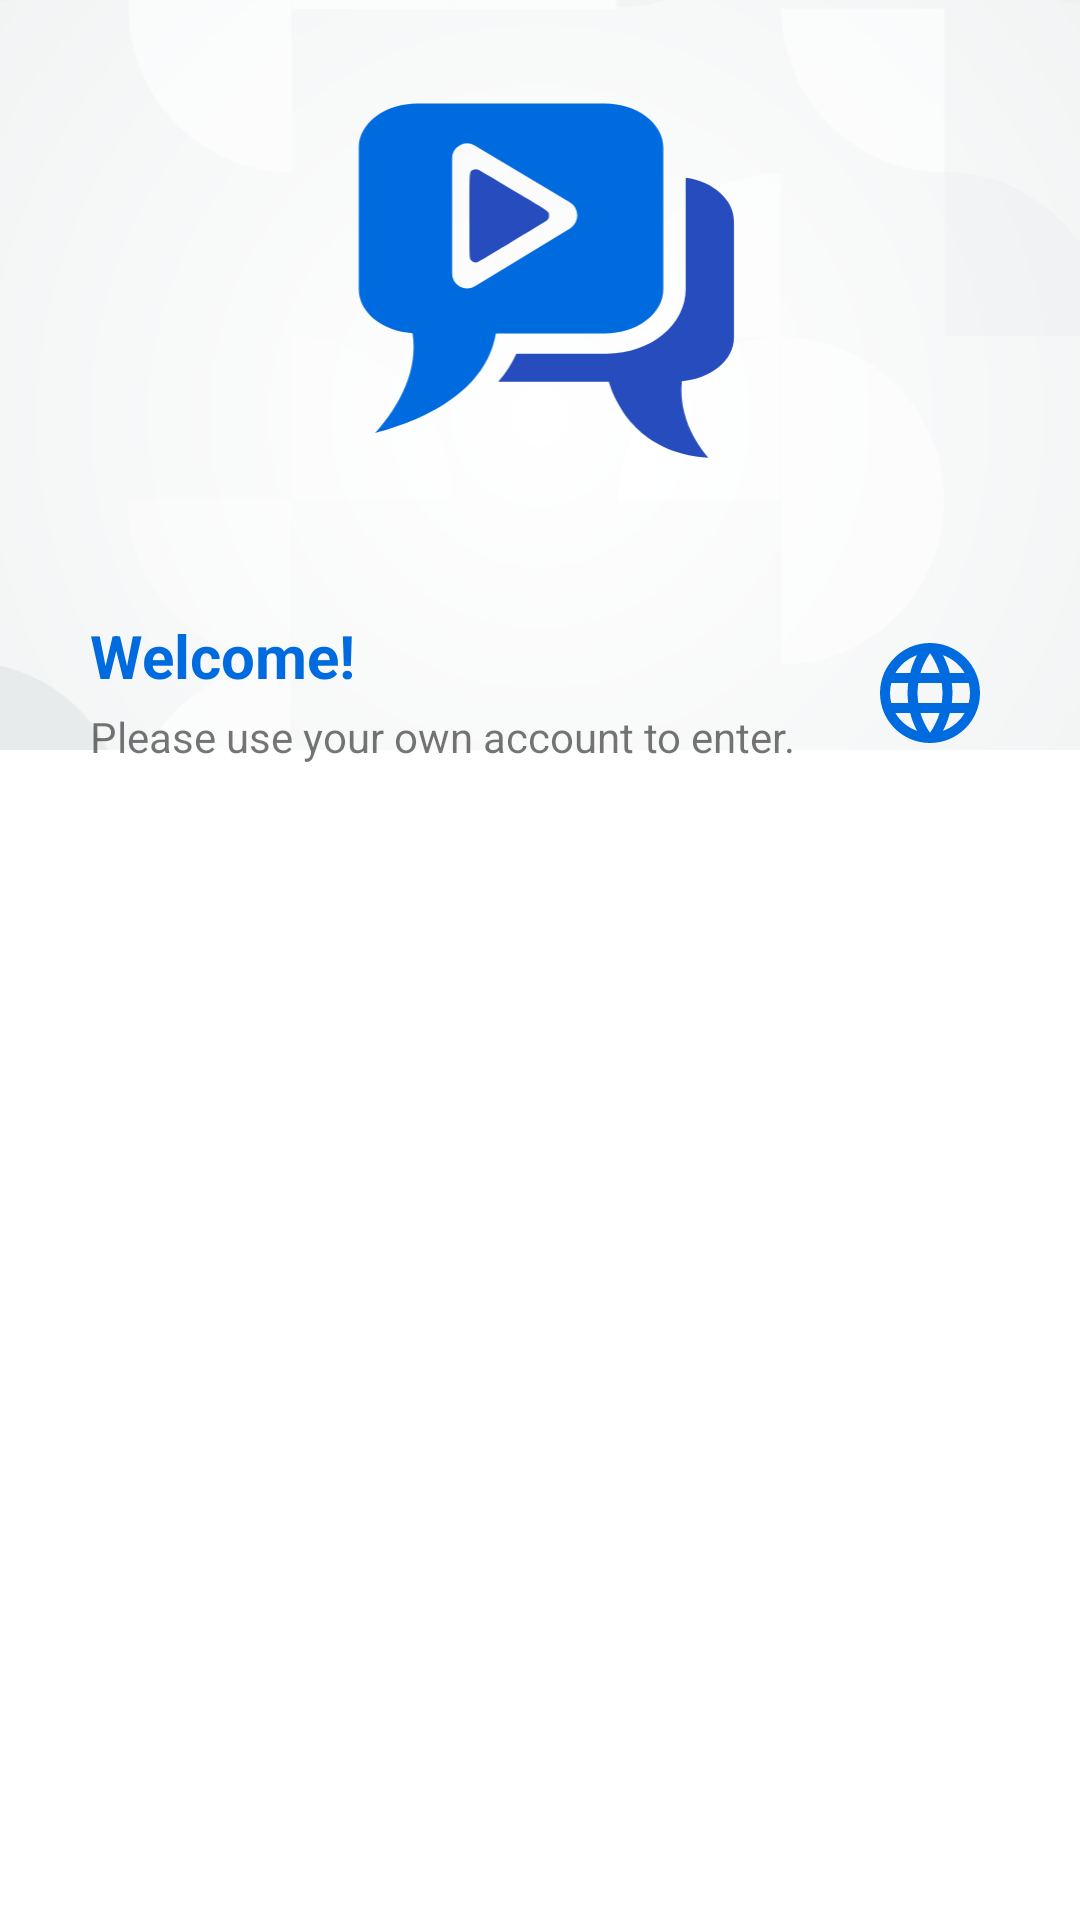

Where to tap for icons on this 1080px x 1920px app screen, as (x,y):
Language Button Login: (930,693)
